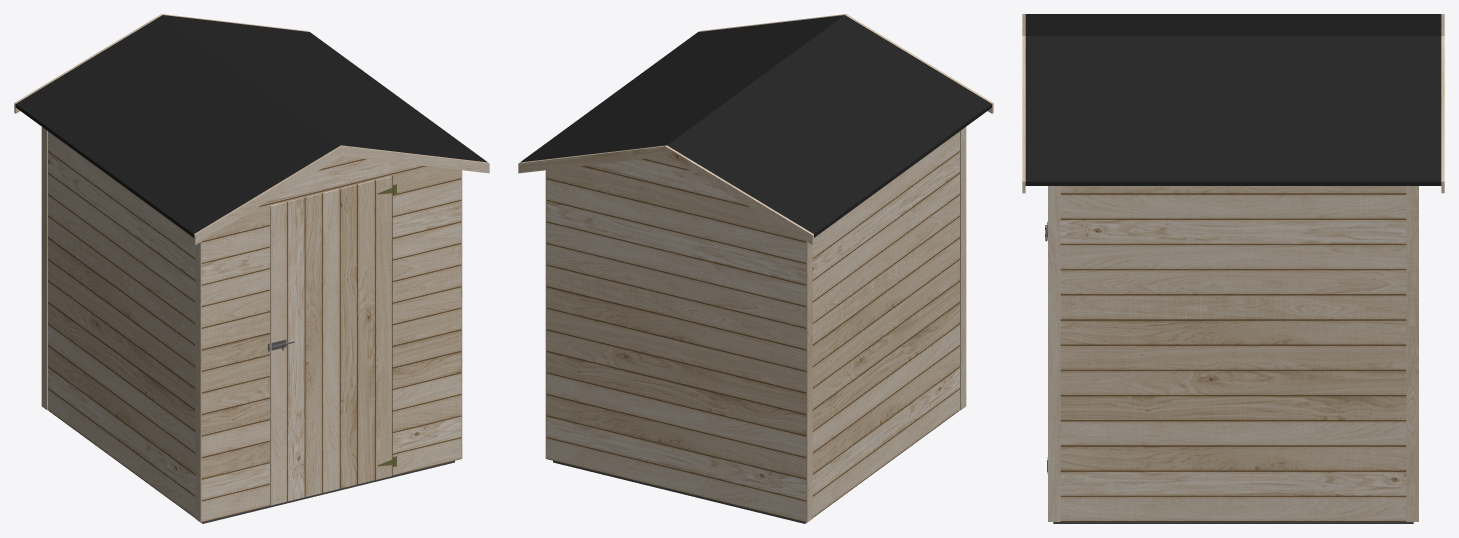
File: sweethome3d-scopia-garden-hut.glb
3 views of the same model, side by side, from view 1: azimuth 30°, elevation 25°; view 2: azimuth 150°, elevation 25°; view 3: azimuth 270°, elevation 25° (orthographic). The views are drawn at different scales.
Visible parts, largest first — view 1: walls_Cube.005, roof_Cube.006, sweethome3d_opening_on_hinge_1_door_Cube.004, hut_Cube; view 2: walls_Cube.005, roof_Cube.006, hut_Cube; view 3: walls_Cube.005, roof_Cube.006, hut_Cube.
Part boxes in pixels (x1=…): walls_Cube.005: x1=48, y1=131, x2=461, y2=522; roof_Cube.006: x1=14, y1=14, x2=489, y2=244; sweethome3d_opening_on_hinge_1_door_Cube.004: x1=270, y1=176, x2=392, y2=505; hut_Cube: x1=41, y1=127, x2=462, y2=523; walls_Cube.005: x1=546, y1=131, x2=959, y2=522; roof_Cube.006: x1=518, y1=14, x2=993, y2=244; hut_Cube: x1=545, y1=127, x2=966, y2=523; walls_Cube.005: x1=1060, y1=186, x2=1406, y2=521; roof_Cube.006: x1=1022, y1=14, x2=1444, y2=193; hut_Cube: x1=1048, y1=186, x2=1418, y2=523.
Size of the model in its own units: 171 by 198 by 182.
5 materials, 1 textured.
